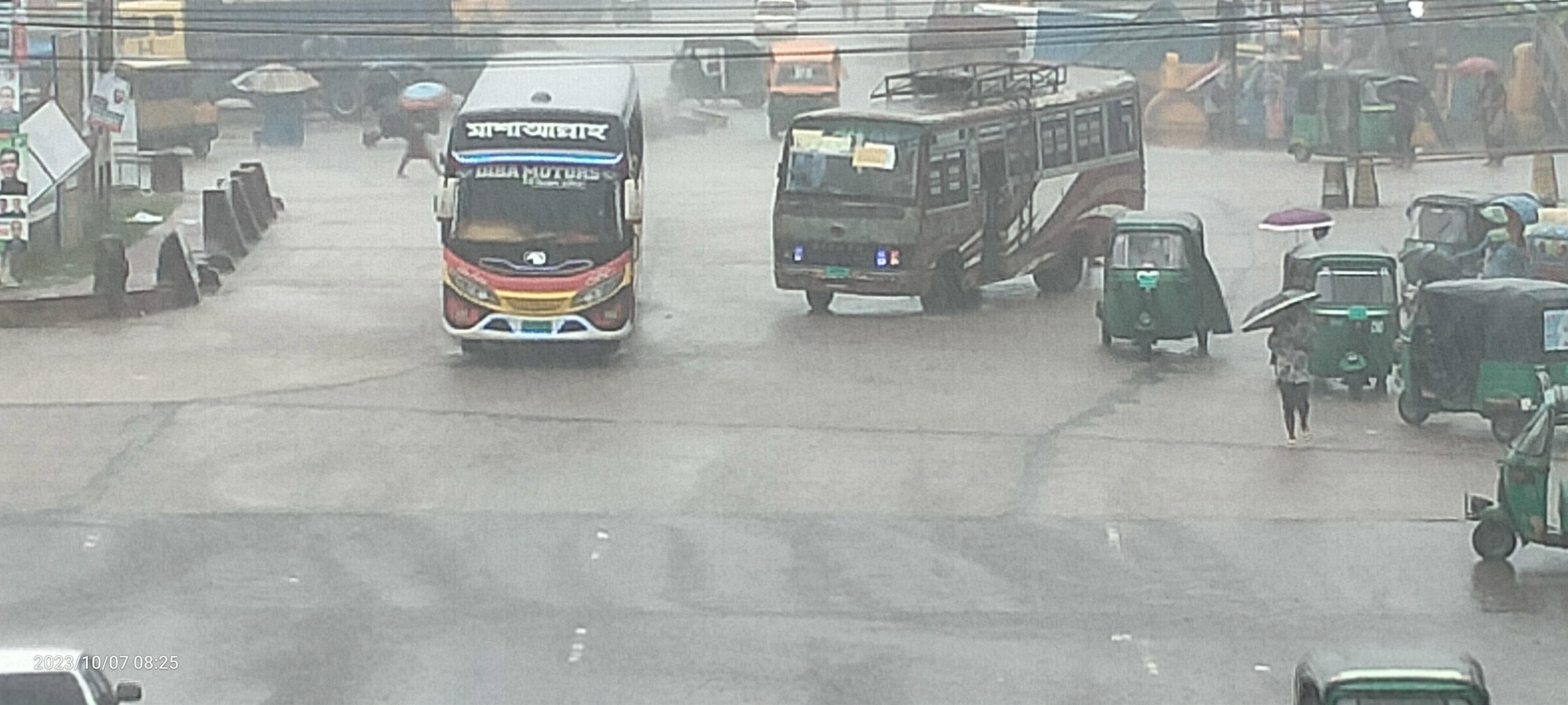Bus: (742, 42, 1176, 342), (397, 0, 676, 390)
Car: (0, 591, 168, 705), (746, 34, 859, 157)
Truck: (80, 0, 459, 144)
